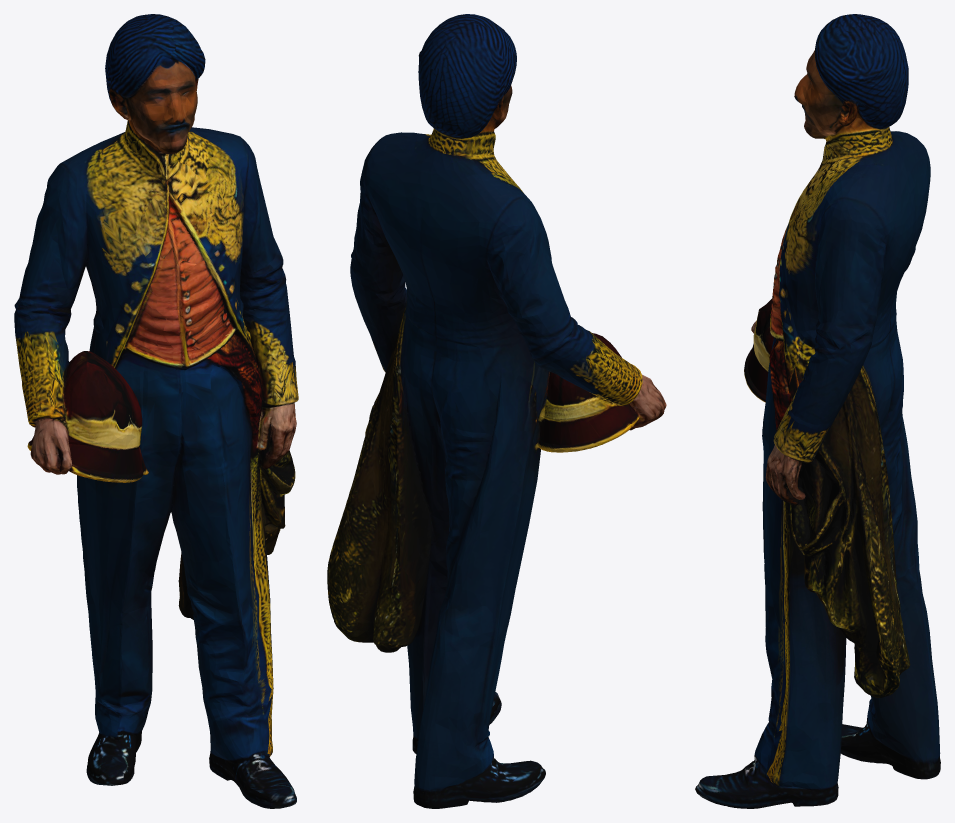
3 views of the same model, side by side, from view 1: azimuth 30°, elevation 25°; view 2: azimuth 150°, elevation 25°; view 3: azimuth 270°, elevation 25° (orthographic).
Visible parts, largest first — view 1: tripo_node_518d0bf6-4223-4670-8835-b3f82ffe4941; view 2: tripo_node_518d0bf6-4223-4670-8835-b3f82ffe4941; view 3: tripo_node_518d0bf6-4223-4670-8835-b3f82ffe4941.
Part boxes in pixels (x1,y1,x2,y2): tripo_node_518d0bf6-4223-4670-8835-b3f82ffe4941: [14, 14, 298, 808]; tripo_node_518d0bf6-4223-4670-8835-b3f82ffe4941: [327, 14, 666, 808]; tripo_node_518d0bf6-4223-4670-8835-b3f82ffe4941: [695, 14, 940, 808].
Size of the model in its own units: 0.3899 by 0.9998 by 0.2957.
1 material, 1 textured.
